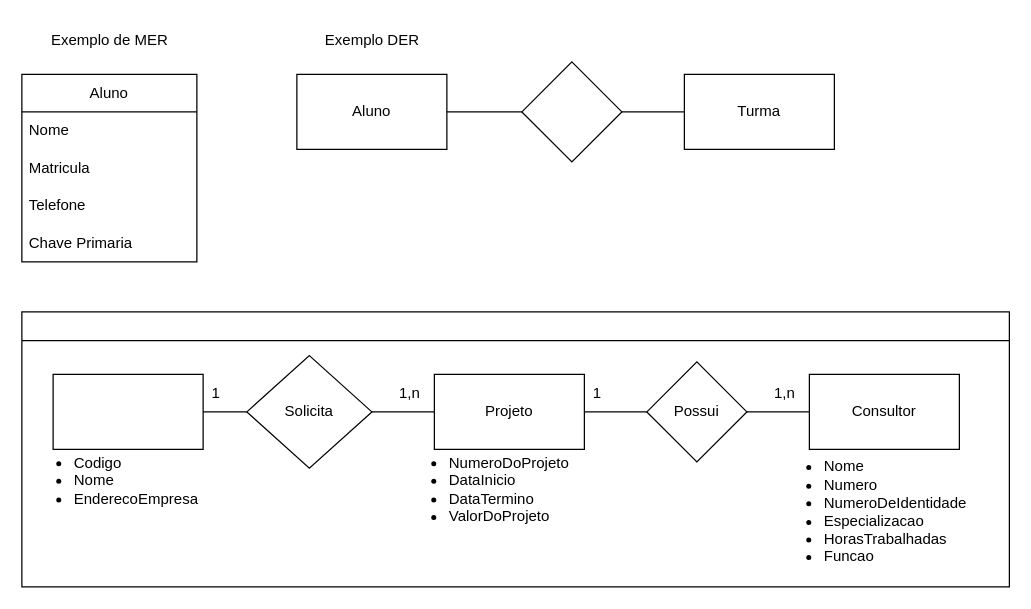
This 1031x609 diagram has some shape labels left out. Here are the shapes that lost their labels. From the top down, the box of each, then its label:
(521, 61, 622, 162): Estudou
(52, 373, 203, 449): Empresa
(21, 311, 1009, 587): Database Empresa DER
